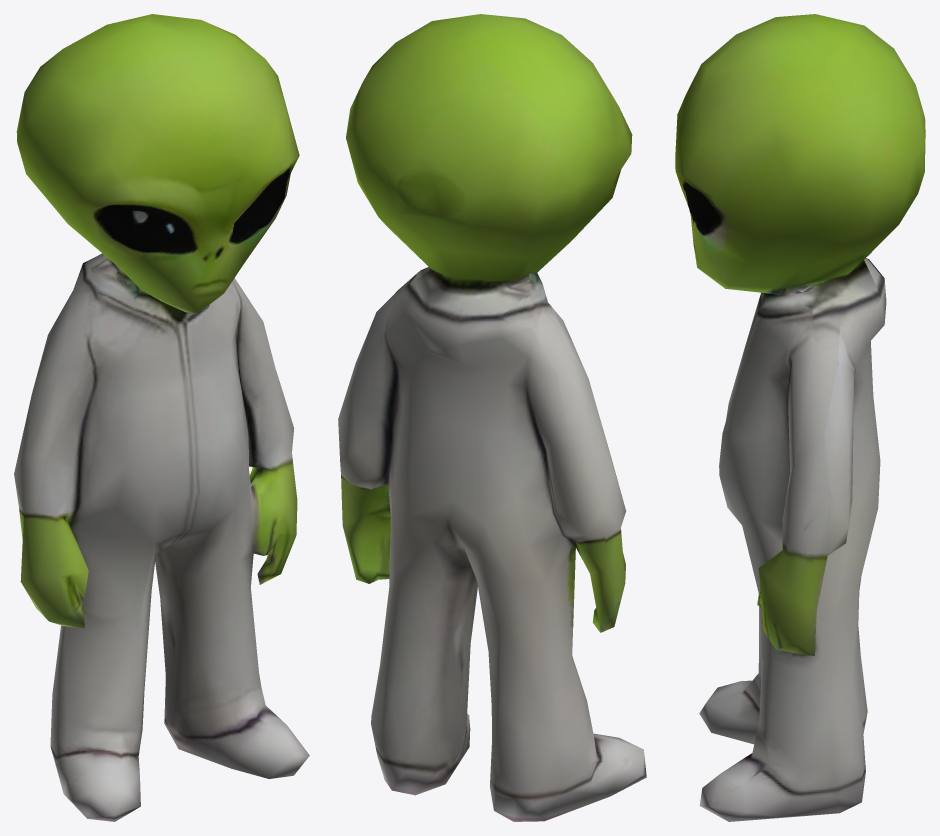
File: mob_alien_visitor.glb
3 renders of one model, left to right at view 1: azimuth 30°, elevation 25°; view 2: azimuth 150°, elevation 25°; view 3: azimuth 270°, elevation 25°, orthographic. The views are drawn at different scales.
Parts seen in each view (by area): view 1: geometry_0; view 2: geometry_0; view 3: geometry_0.
Boxes of the visible parts, <box> form: geometry_0: <box>14,14,309,821</box>; geometry_0: <box>338,14,646,821</box>; geometry_0: <box>675,14,925,821</box>.
Bounding box in the file's own units: 0.6143 × 1.62 × 0.4922.
Materials: 1 (1 with a texture image).
